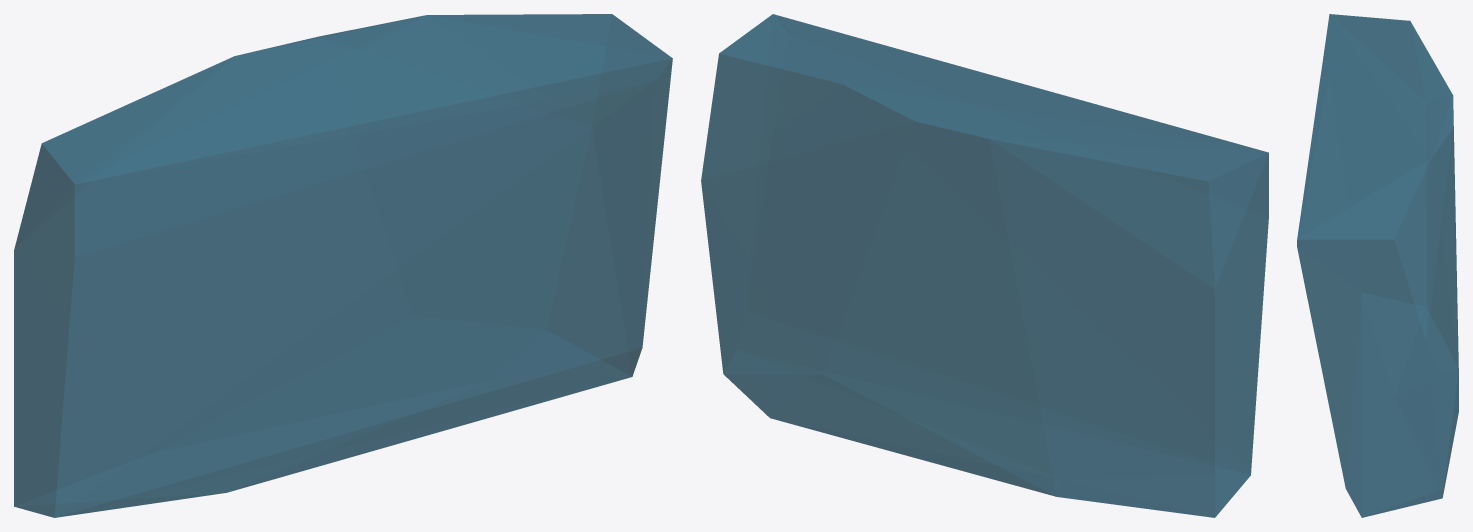
3 renders of one model, left to right at view 1: azimuth 30°, elevation 25°; view 2: azimuth 150°, elevation 25°; view 3: azimuth 270°, elevation 25°, orthographic. The views are drawn at different scales.
Visible parts, largest first — view 1: Shape_IndexedFaceSet.088_Shape_IndexedFaceSet.517; view 2: Shape_IndexedFaceSet.088_Shape_IndexedFaceSet.517; view 3: Shape_IndexedFaceSet.088_Shape_IndexedFaceSet.517.
Boxes of the visible parts, x1,y1,x2,y2 form: Shape_IndexedFaceSet.088_Shape_IndexedFaceSet.517: (14,14,672,517); Shape_IndexedFaceSet.088_Shape_IndexedFaceSet.517: (701,14,1268,517); Shape_IndexedFaceSet.088_Shape_IndexedFaceSet.517: (1297,14,1458,517).
Size of the model in its own units: 0.1399 by 0.094 by 0.0424.
